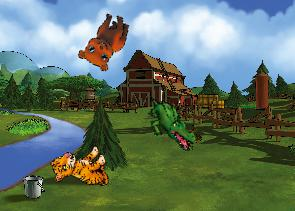bear: (75, 6, 132, 74)
crocodile: (136, 94, 205, 153)
tiger: (48, 139, 114, 200)
